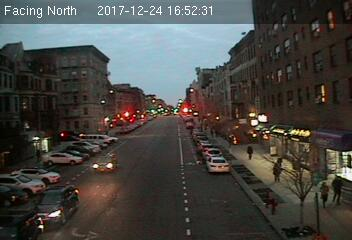car: (30, 184, 80, 224), (91, 153, 119, 172), (207, 155, 229, 173)
